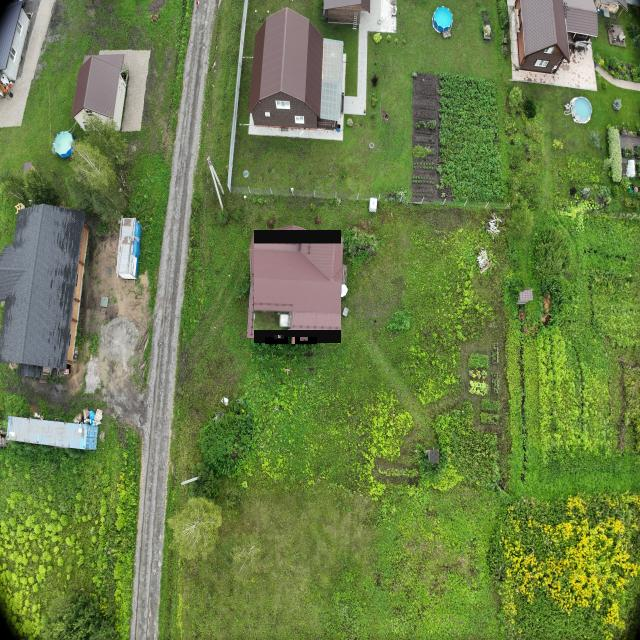roof_finished: (254, 230, 341, 343)
walls: (265, 338, 317, 346)
windows: (274, 336, 284, 340), (300, 337, 308, 341)
